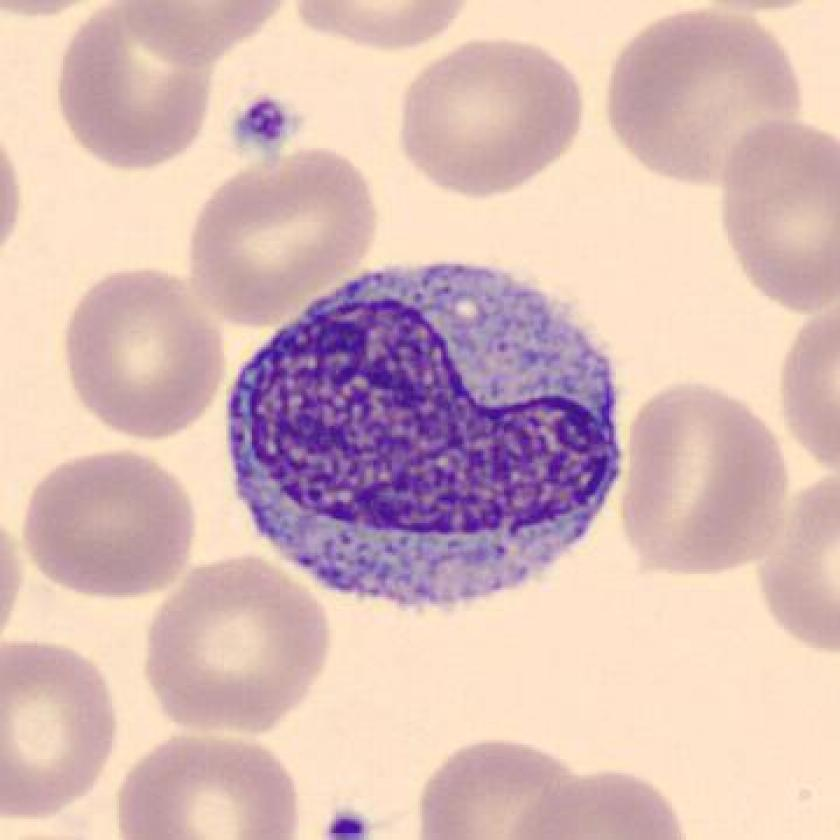monocyte: (211, 242, 640, 631)
